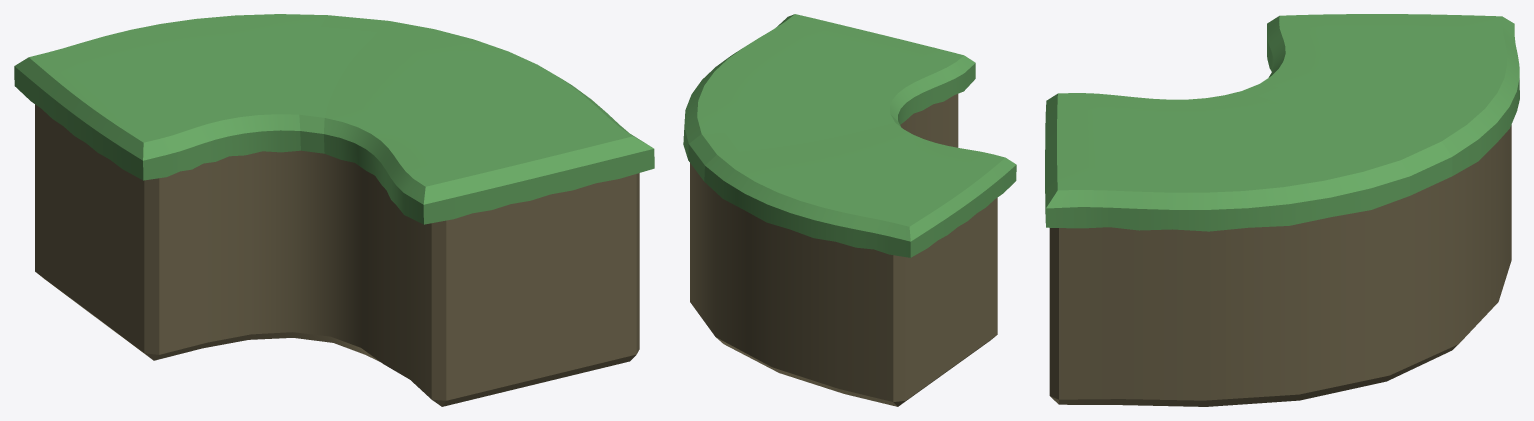
Rendered from Grass_block_turn.fbx.
3 renders of one model, left to right at view 1: azimuth 30°, elevation 25°; view 2: azimuth 150°, elevation 25°; view 3: azimuth 270°, elevation 25°, orthographic. The views are drawn at different scales.
Visible parts, largest first — view 1: Dirt, Grass; view 2: Grass, Dirt; view 3: Dirt, Grass.
Boxes of the visible parts, left/top/right/bottom form: Dirt: left=35, top=104, right=639, bottom=406; Grass: left=14, top=14, right=654, bottom=224; Grass: left=683, top=14, right=1016, bottom=257; Dirt: left=690, top=94, right=997, bottom=406; Dirt: left=1049, top=125, right=1511, bottom=406; Grass: left=1045, top=14, right=1519, bottom=231.
Size of the model in its own units: 213 by 113 by 226.
